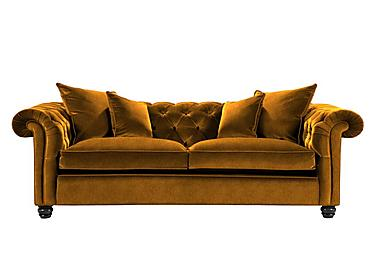chairs: (10, 82, 364, 221)
